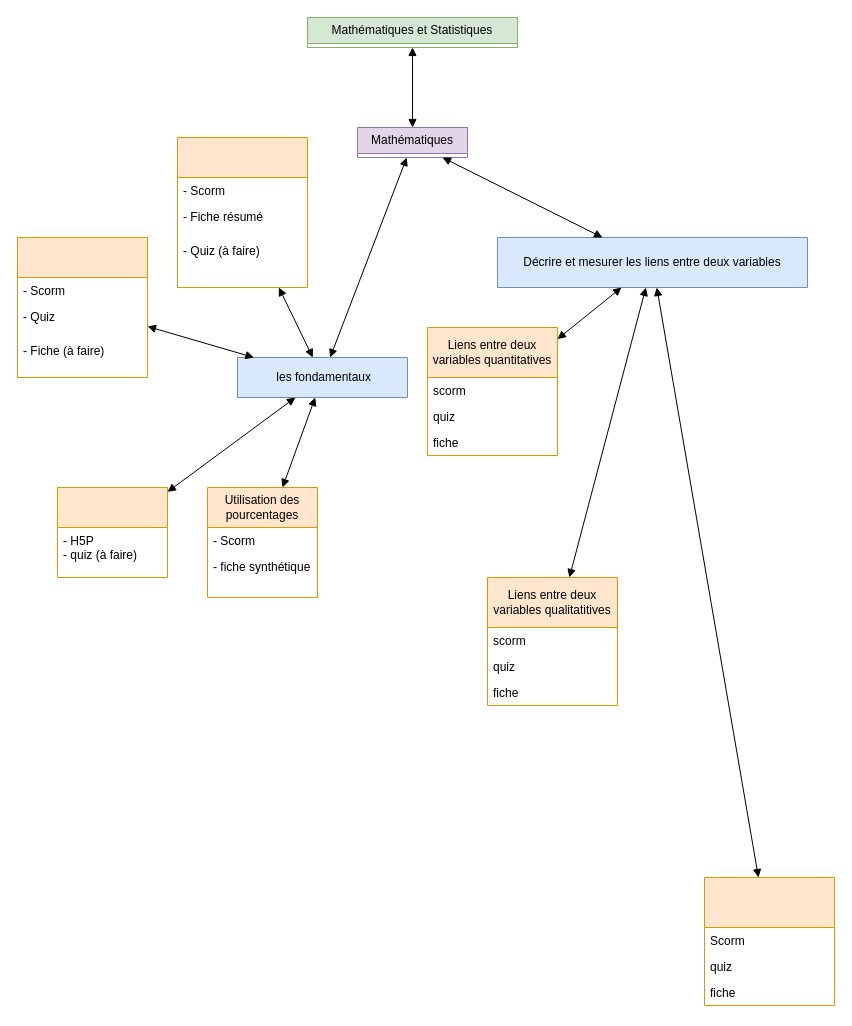
This 852x1026 diagram has some shape labels left out. The shapes that lost their labels are listed below. From the top down, each one's box as (x1, y1, x2, y2) in pixels, then its label:
(176, 136, 308, 288): Évolution et multiplicateur
(16, 236, 148, 378): Taux d'évolution annuel moyen
(56, 486, 168, 578): Les opérations
(704, 876, 834, 1006): Liens entre une quantitative et une qualitative
